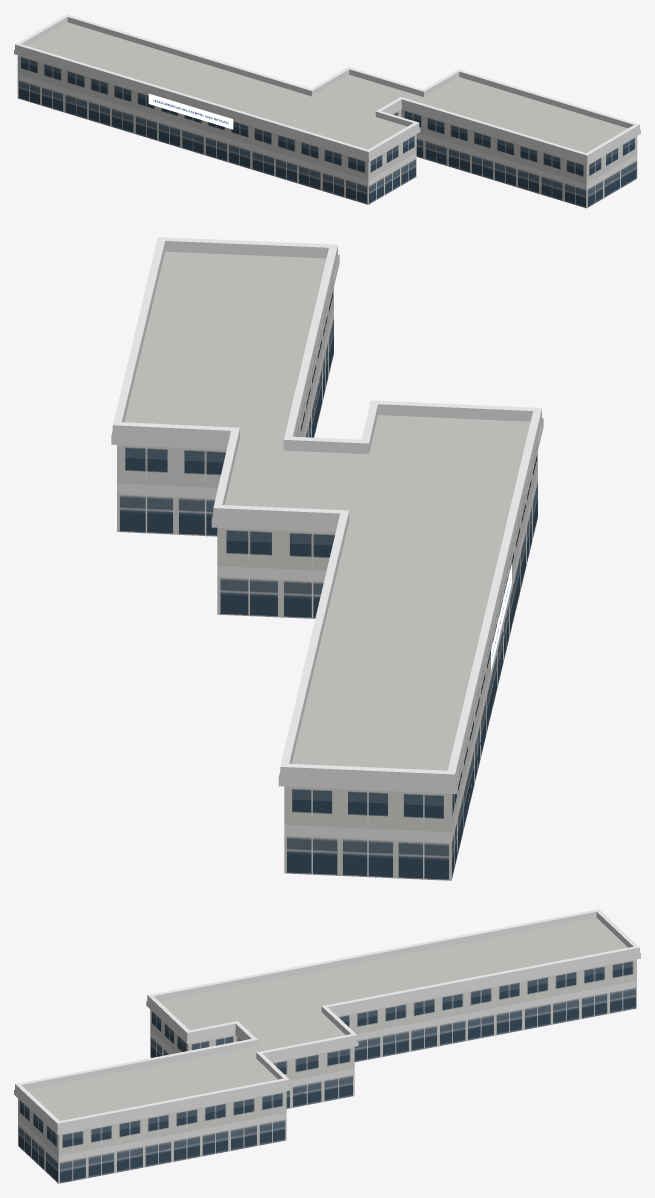
File: iberoamerican.glb
3 renders of one model, top to bottom at view 1: azimuth 30°, elevation 25°; view 2: azimuth 150°, elevation 25°; view 3: azimuth 270°, elevation 25°, orthographic. The views are drawn at different scales.
Parts seen in each view (by area): view 1: iberoamerican_lod0; view 2: iberoamerican_lod0; view 3: iberoamerican_lod0.
Part boxes in pixels (box(x1,y1,x2,y2)): iberoamerican_lod0: box(14, 14, 640, 208); iberoamerican_lod0: box(111, 237, 543, 880); iberoamerican_lod0: box(14, 909, 640, 1183).
Size of what is drawn, in the model's own units: 60.13 by 8 by 73.93.
Materials: 5 (3 with a texture image).
